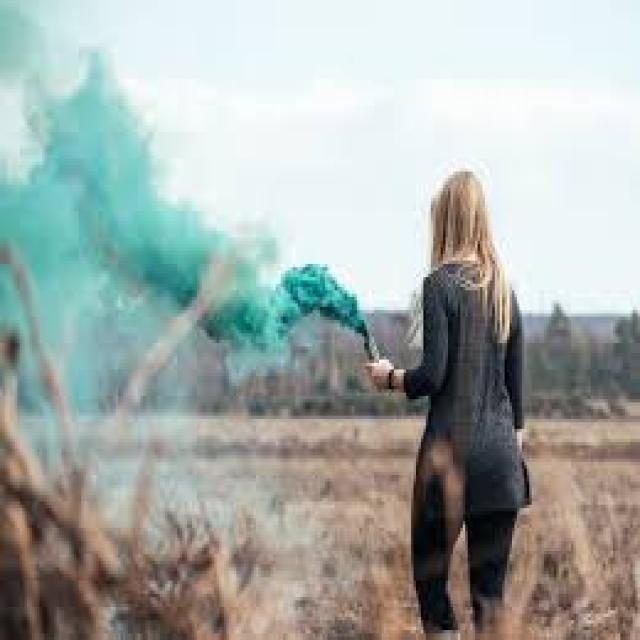Smoke: (0, 46, 364, 389)
